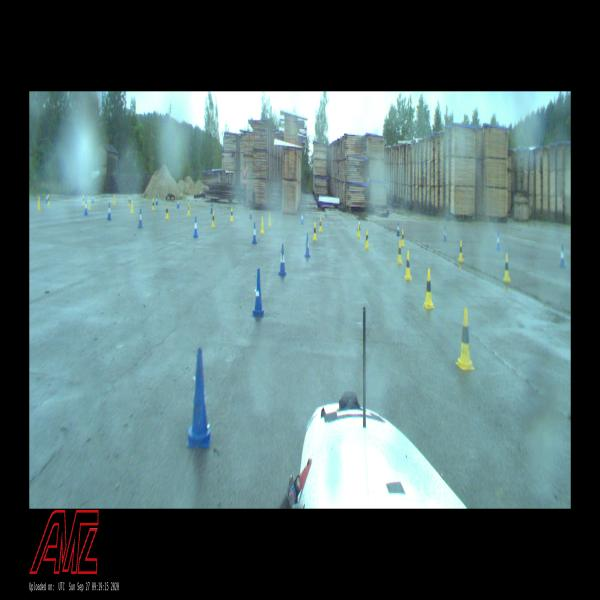blue_cone: (189, 351, 210, 441), (252, 272, 264, 316), (279, 245, 285, 274), (304, 234, 311, 258), (560, 245, 566, 268), (193, 216, 198, 237), (252, 222, 256, 244), (496, 233, 501, 250), (138, 209, 142, 228), (108, 203, 112, 220), (443, 226, 447, 241), (84, 201, 88, 215), (396, 222, 400, 235), (300, 212, 304, 224), (249, 206, 252, 219), (210, 203, 213, 213), (358, 217, 360, 230), (156, 195, 158, 204), (92, 193, 94, 202), (46, 193, 48, 202), (178, 198, 179, 208)
yellow_cone: (456, 308, 475, 370), (423, 269, 433, 308), (404, 250, 412, 280), (503, 253, 510, 282), (458, 240, 464, 262), (397, 240, 402, 263), (401, 228, 405, 247), (365, 230, 369, 249), (212, 210, 216, 228), (260, 216, 264, 234), (229, 208, 234, 221), (165, 204, 169, 219), (187, 203, 191, 216), (313, 223, 316, 240), (357, 223, 360, 238), (319, 217, 322, 232), (152, 197, 155, 211), (268, 212, 271, 226), (131, 200, 134, 213), (88, 197, 91, 209), (113, 194, 116, 205), (38, 197, 40, 209), (128, 196, 130, 207), (82, 195, 84, 205), (48, 194, 49, 206)
